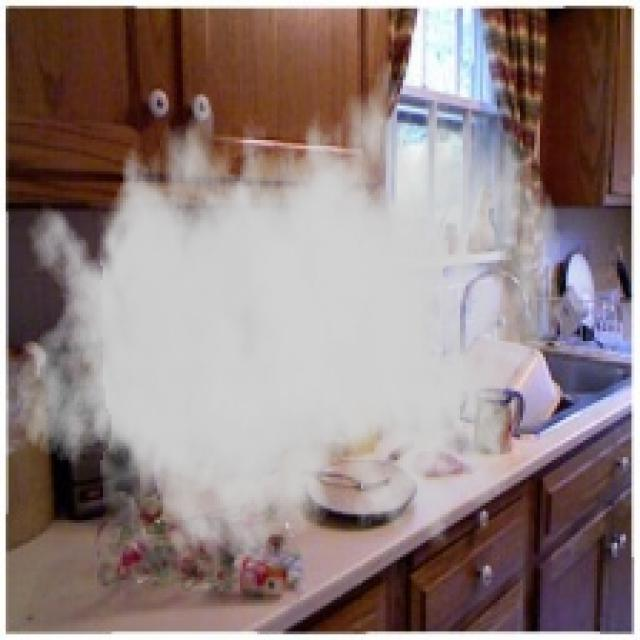smoke: (14, 34, 563, 589)
